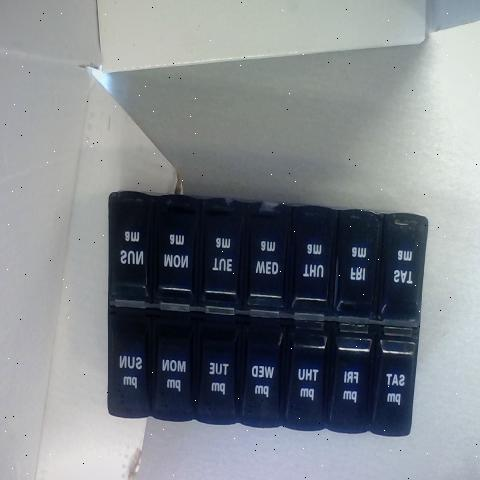FRI-am: (336, 216, 381, 314)
FRI-pm: (332, 338, 374, 430)
MON-am: (159, 202, 198, 303)
MON-pm: (156, 323, 198, 416)
SAT-am: (384, 222, 426, 322)
SAT-pm: (377, 333, 415, 435)
SUN-am: (112, 204, 155, 296)
SUN-pm: (109, 318, 156, 413)
THU-am: (295, 211, 338, 309)
THU-pm: (289, 325, 328, 427)
TUE-am: (204, 210, 242, 305)
TUE-pm: (198, 323, 241, 422)
WED-am: (250, 211, 289, 313)
WED-pm: (244, 325, 288, 424)
